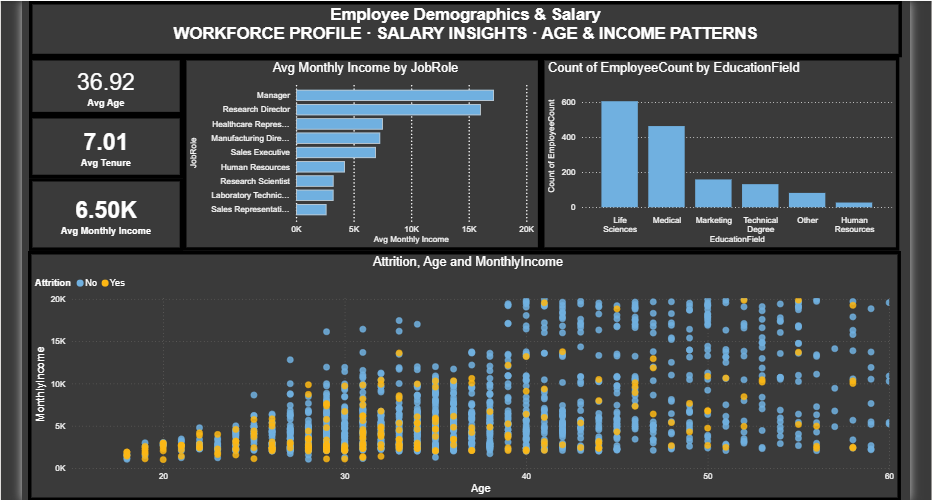

The dashboard page shown, as its layout file describes it:
{"tool":"powerbi","page":{"name":"Page 3","canvas":[1280,720],"ordinal":2},"visuals":[{"type":"textbox","box":[10,0,1257.1,81],"z":3},{"type":"card","fields":{"Values":["HR-Employee-Data.Avg Age"]},"box":[10.1,80.6,221.8,83.5],"z":4},{"type":"card","fields":{"Values":["HR-Employee-Data.Avg Monthly Income"]},"box":[10.1,254.9,221.8,105.1],"z":5},{"type":"card","fields":{"Values":["HR-Employee-Data.Avg Tenure"]},"box":[10.1,164.2,221.8,90.7],"z":6},{"type":"barChart","fields":{"Category":["HR-Employee-Data.JobRole"],"Y":["HR-Employee-Data.Avg Monthly Income"]},"box":[231.8,80.6,515.5,279.4],"z":7},{"type":"clusteredColumnChart","fields":{"Category":["HR-Employee-Data.EducationField"],"Y":["CountNonNull(HR-Employee-Data.EmployeeCount)"]},"box":[747.4,80.6,515.5,279.4],"z":8},{"type":"scatterChart","fields":{"X":["HR-Employee-Data.Age"],"Y":["HR-Employee-Data.MonthlyIncome"],"Series":["HR-Employee-Data.Attrition"]},"box":[8.6,360,1257.1,360],"z":9}]}

Visuals, with their boxes on the page's 1280x720 design canvas (x1, y1, x2, y2). These are canvas units, not pixel positions in the 932x500 screenshot, which may show the page scaled, cropped or inside an application window:
textbox: box(10, 0, 1267, 81)
card - HR-Employee-Data.Avg Age: box(10, 81, 232, 164)
card - HR-Employee-Data.Avg Monthly Income: box(10, 255, 232, 360)
card - HR-Employee-Data.Avg Tenure: box(10, 164, 232, 255)
barChart - HR-Employee-Data.JobRole x HR-Employee-Data.Avg Monthly Income: box(232, 81, 747, 360)
clusteredColumnChart - HR-Employee-Data.EducationField x CountNonNull(HR-Employee-Data.EmployeeCount): box(747, 81, 1263, 360)
scatterChart - HR-Employee-Data.Age x HR-Employee-Data.MonthlyIncome: box(9, 360, 1266, 720)
